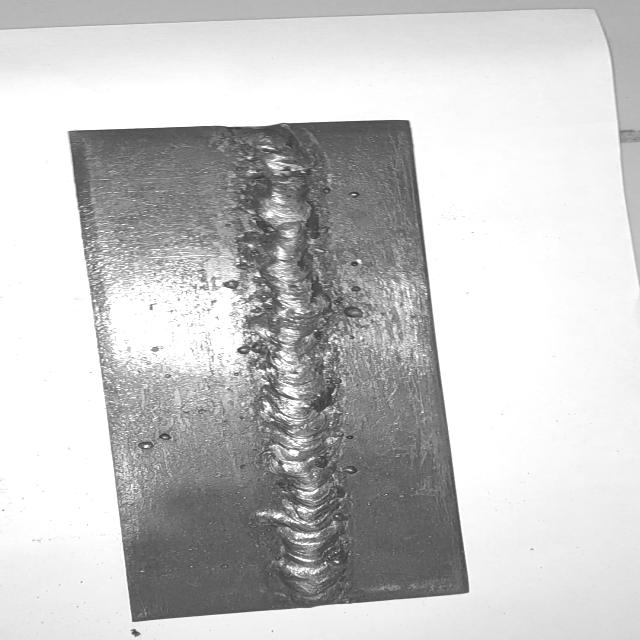Bad Weld: (252, 132, 347, 602)
Defect: (228, 127, 324, 191)
